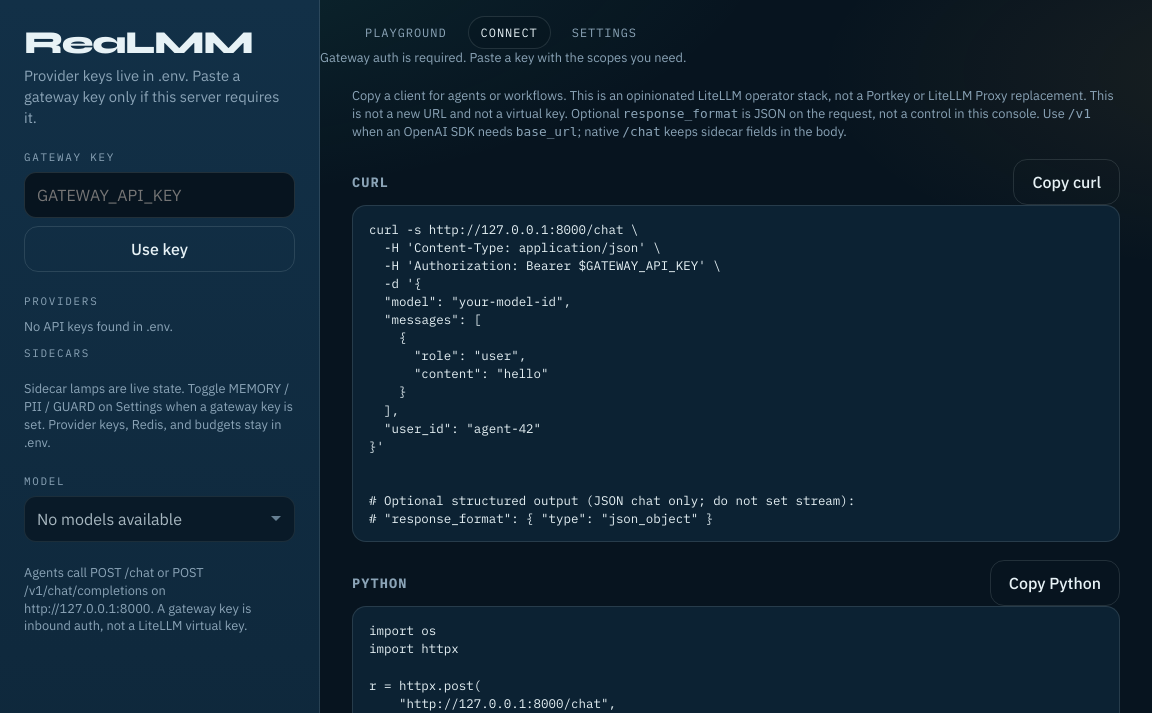
ConsoleShell › copies connect snippets
Click the button "Copy curl" at (1067, 182), box [1013, 159, 1120, 205]
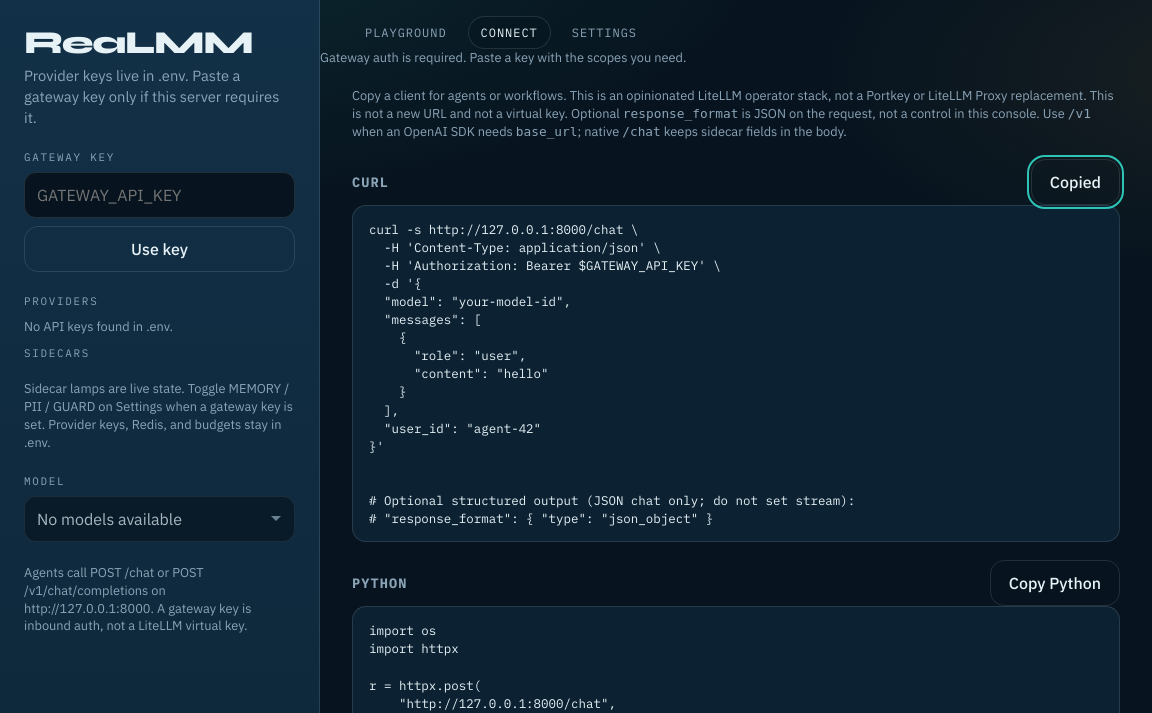
Expected: the button "Copied" is shown, [1031, 159, 1120, 205]
